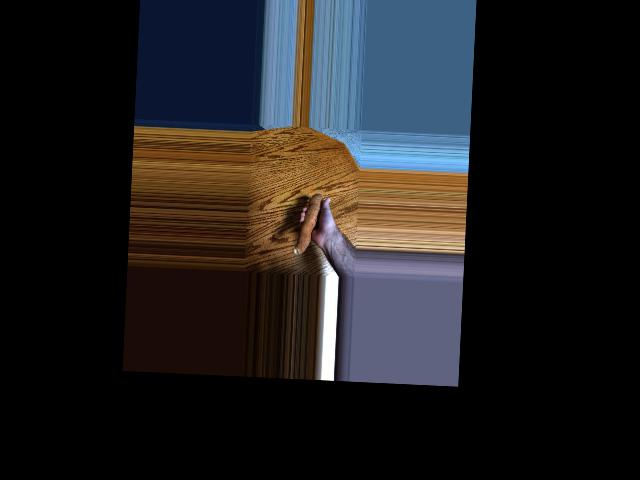sweet_potato: (303, 191, 322, 256)
